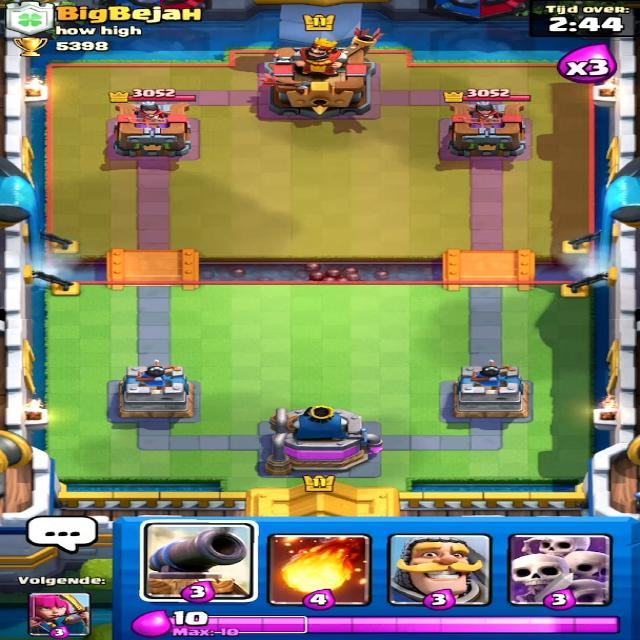Cannon_Card: (143, 519, 253, 600)
Fireball_Card: (261, 533, 370, 606)
